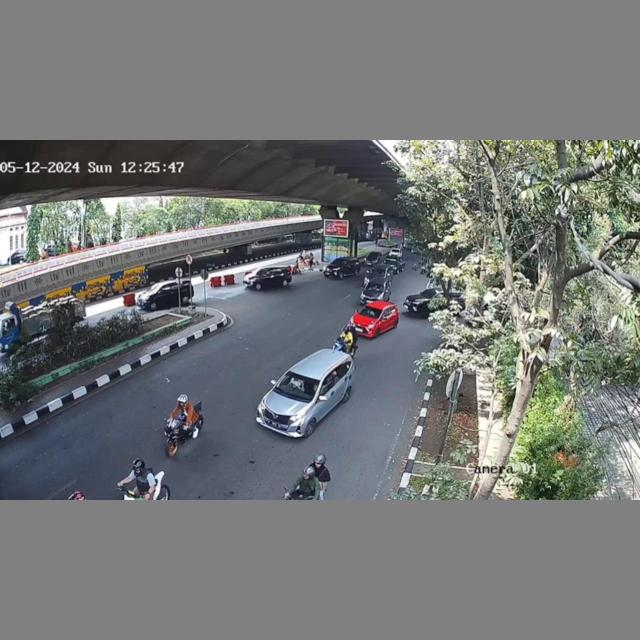windshield: (274, 370, 320, 402), (354, 304, 384, 320)
